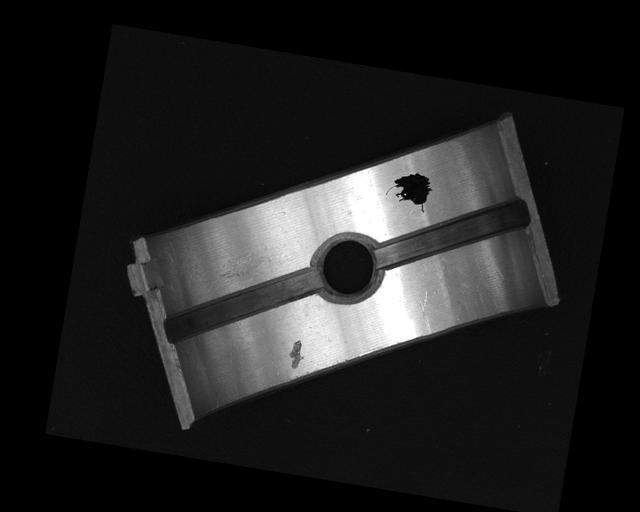blot: (384, 167, 436, 214)
bruise: (286, 336, 307, 371)
gap: (166, 247, 321, 361), (374, 176, 530, 285)
hole: (307, 226, 388, 306)
nick: (412, 289, 439, 334)
scratch: (211, 239, 279, 289)
